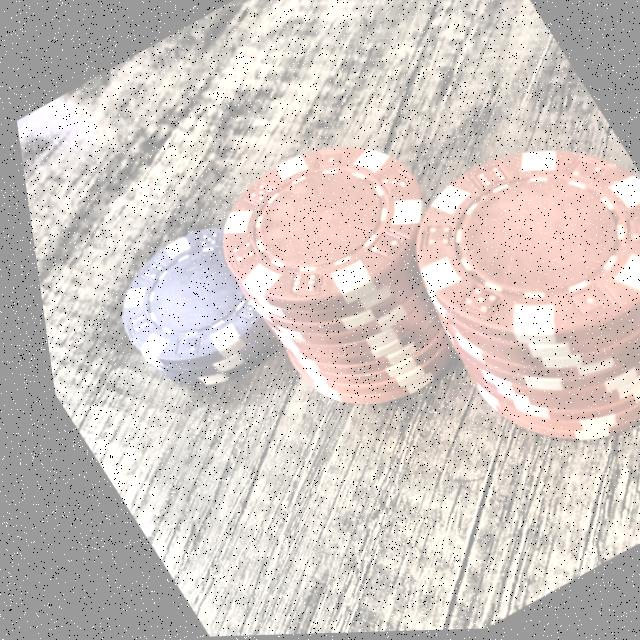Chip: (172, 105, 521, 443), (347, 103, 640, 489), (72, 199, 321, 420)
